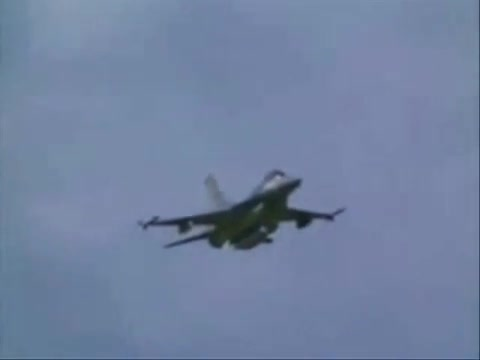aeroplane: (138, 169, 347, 253)
